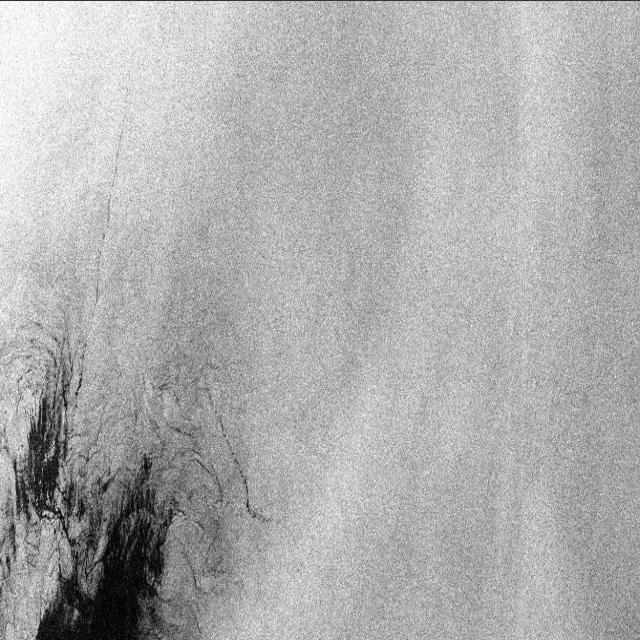look-alike: (50, 461, 164, 640), (14, 380, 76, 524)
oil-spill: (207, 390, 278, 526), (70, 243, 111, 389), (103, 83, 131, 231)
